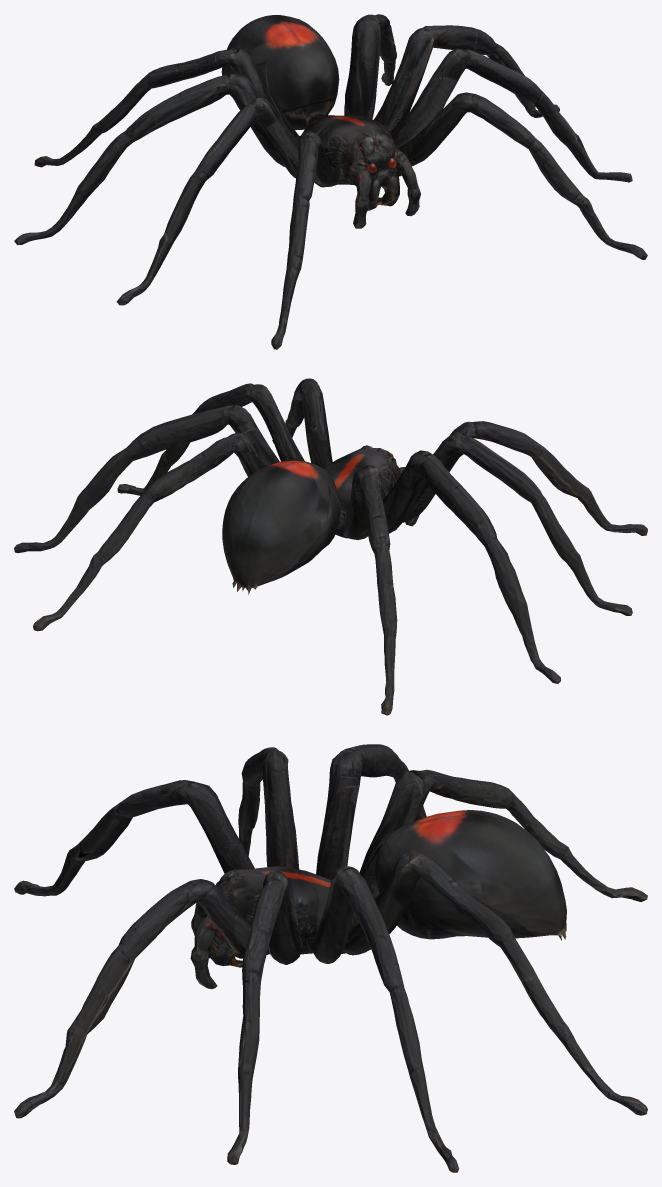
The model's file is BlackWidow.fbx.
3 views of the same model, one above another, from view 1: azimuth 30°, elevation 25°; view 2: azimuth 150°, elevation 25°; view 3: azimuth 270°, elevation 25° (orthographic). The views are drawn at different scales.
Visible parts, largest first — view 1: temp; view 2: temp; view 3: temp.
Boxes of the visible parts, <box> form: temp: <box>14,14,647,349</box>; temp: <box>14,378,647,715</box>; temp: <box>14,744,647,1172</box>.
Bounding box in the file's own units: 200 × 55.76 × 161.
Materials: 1 (1 with a texture image).
